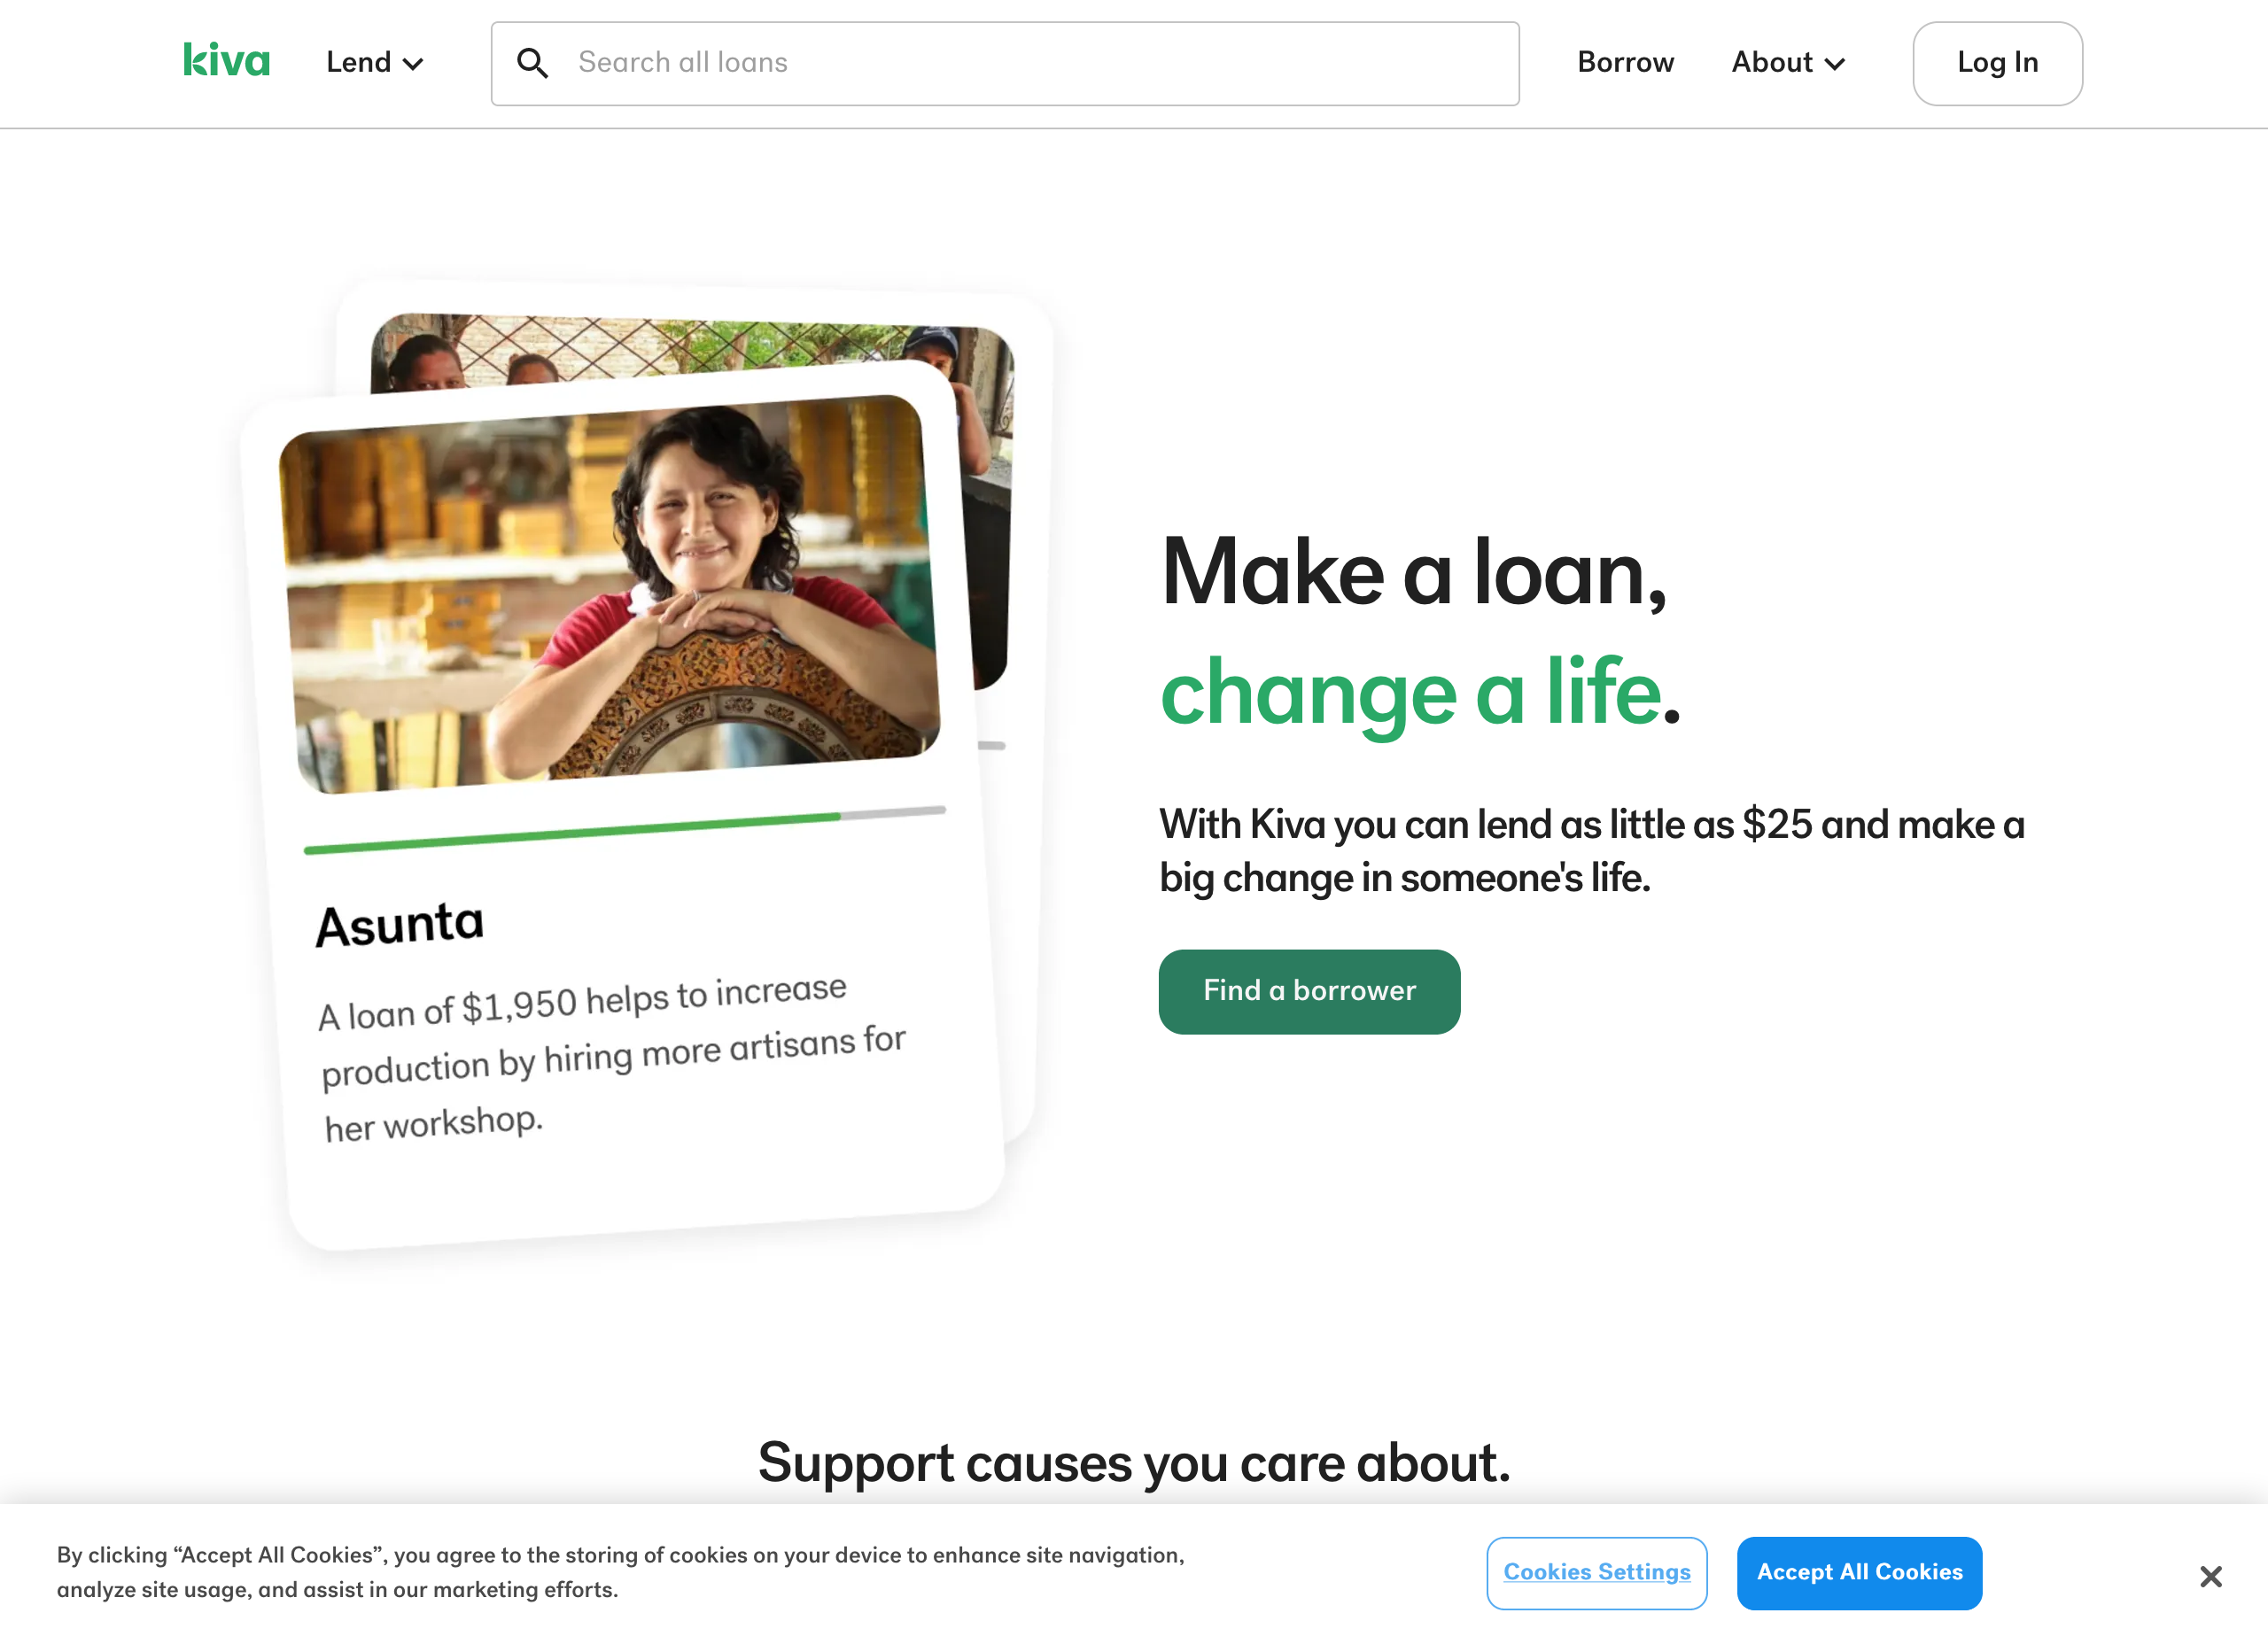Login: (1896, 5, 2102, 113)
